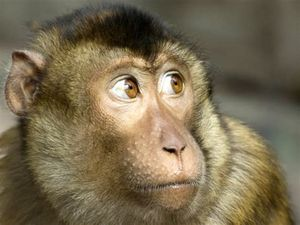monkey: (19, 9, 269, 225)
